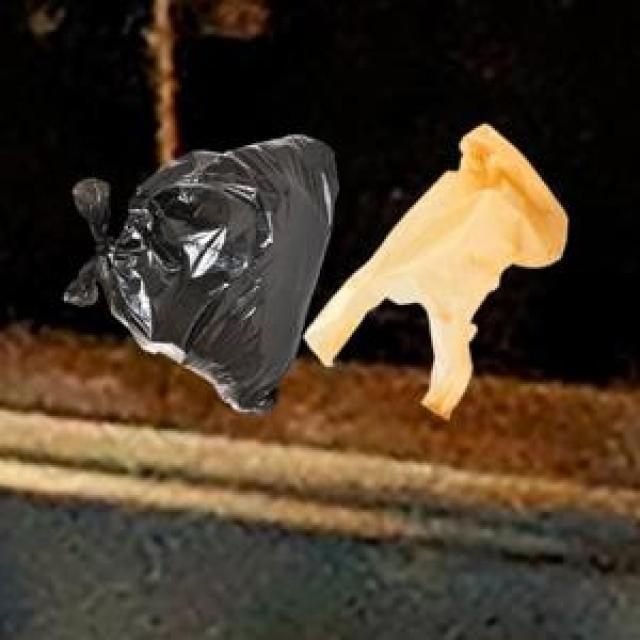miscellaneous trash: (60, 132, 333, 410)
